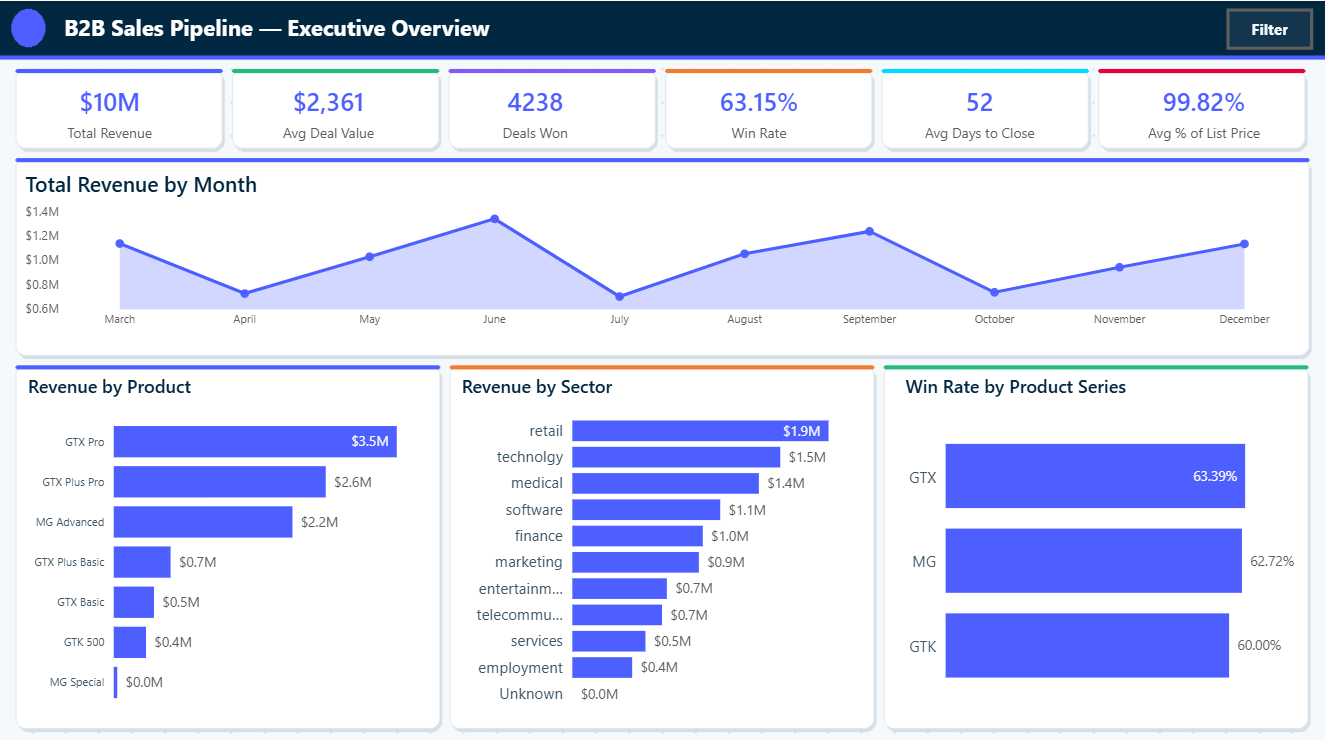

What the dashboard file says about the page in this screenshot:
{"tool":"powerbi","page":{"name":"Executive Overview","canvas":[1280,720],"ordinal":0},"visuals":[{"type":"group","id":"g1","title":"Page 1 Main","box":[20.6,6,1235,688.3],"z":0},{"type":"card","fields":{"Values":["Table.Total Revenue"]},"box":[30.2,74.1,153.7,67.2],"z":0,"group":"g1"},{"type":"card","fields":{"Values":["Table.Avg Deal Value"]},"box":[241.5,74.1,153.7,67.2],"z":1000,"group":"g1"},{"type":"card","fields":{"Values":["Table.Deals Won"]},"box":[441.9,74.1,152.3,67.2],"z":2000,"group":"g1"},{"type":"actionButton","box":[1184.2,6.9,83.7,39.8],"z":3000},{"type":"areaChart","fields":{"Category":["vw_sales_gold.close_date.Variation.Date Hierarchy.Year","vw_sales_gold.close_date.Variation.Date Hierarchy.Quarter","vw_sales_gold.close_date.Variation.Date Hierarchy.Month"],"Y":["Table.Total Revenue"]},"box":[20.6,163.3,1235,161.9],"z":3000,"group":"g1"},{"type":"card","fields":{"Values":["Table.Win Rate"]},"box":[657.3,74.1,152.3,67.2],"z":4000,"group":"g1"},{"type":"card","fields":{"Values":["Table.Avg Days to Close"]},"box":[870,74.1,153.7,67.2],"z":5000,"group":"g1"},{"type":"card","fields":{"Values":["Table.Avg % of List Price"]},"box":[1086.8,74.1,152.3,67.2],"z":6000,"group":"g1"},{"type":"clusteredBarChart","title":"Revenue by Product","fields":{"Category":["vw_sales_gold.product"],"Y":["Table.Total Revenue"]},"box":[23.3,359.5,400.7,334.8],"z":7000,"group":"g1"},{"type":"textbox","box":[57.9,6,707,42.2],"z":8000,"group":"g1"},{"type":"clusteredBarChart","title":"Revenue by Sector","fields":{"Category":["vw_sales_gold.sector"],"Y":["Table.Total Revenue"]},"box":[441.9,359.5,396.6,334.8],"z":9000,"group":"g1"},{"type":"clusteredBarChart","title":"Win Rate by Product Series","fields":{"Category":["vw_sales_gold.product_series"],"Y":["Table.Win Rate"]},"box":[870,359.5,385.6,334.8],"z":10000,"group":"g1"}]}

Visuals, with their boxes in screenshot pixels (x1, y1, x2, y2), scaled from the page's 1280x720 canvas onto the 1325x740 screenshot:
"Page 1 Main" group: box(21, 6, 1300, 714)
card - Table.Total Revenue: box(31, 76, 190, 145)
card - Table.Avg Deal Value: box(250, 76, 409, 145)
card - Table.Deals Won: box(457, 76, 615, 145)
actionButton: box(1226, 7, 1312, 48)
areaChart - vw_sales_gold.close_date.Variation.Date Hierarchy.Year x vw_sales_gold.close_date.Variation.Date Hierarchy.Quarter: box(21, 168, 1300, 334)
card - Table.Win Rate: box(680, 76, 838, 145)
card - Table.Avg Days to Close: box(901, 76, 1060, 145)
card - Table.Avg % of List Price: box(1125, 76, 1283, 145)
"Revenue by Product" clusteredBarChart: box(24, 369, 439, 714)
textbox: box(60, 6, 792, 50)
"Revenue by Sector" clusteredBarChart: box(457, 369, 868, 714)
"Win Rate by Product Series" clusteredBarChart: box(901, 369, 1300, 714)
